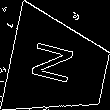N_E: (32, 42, 85, 92)
